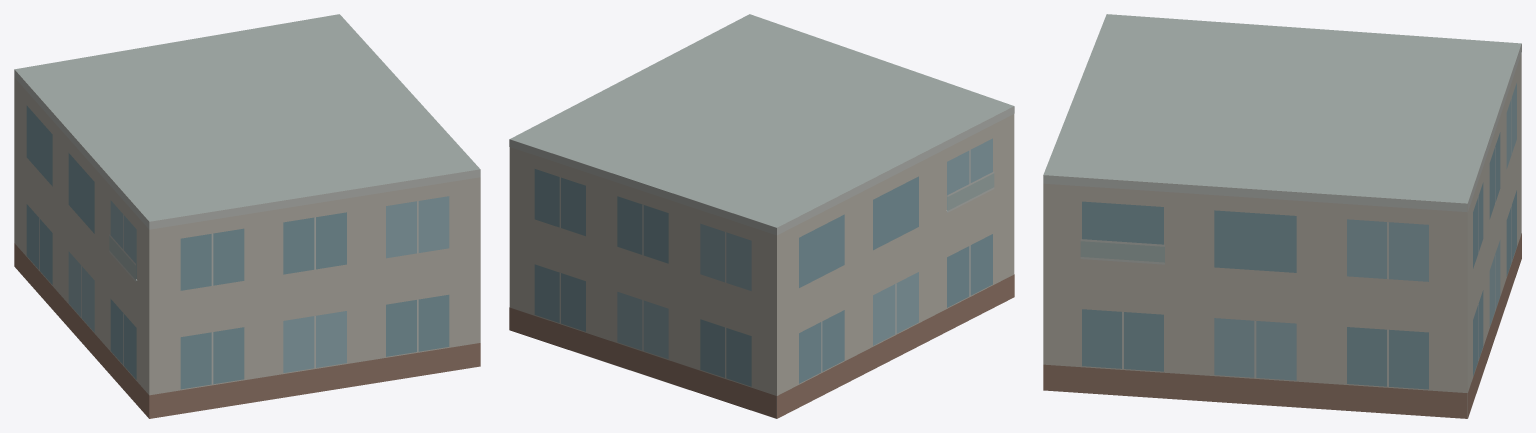
The model's file is survey-upis-32879405.glb.
3 views of the same model, side by side, from view 1: azimuth 30°, elevation 25°; view 2: azimuth 150°, elevation 25°; view 3: azimuth 270°, elevation 25° (orthographic). The views are drawn at different scales.
Parts seen in each view (by area): view 1: survey-upis-32879405.tmp; view 2: survey-upis-32879405.tmp; view 3: survey-upis-32879405.tmp.
Boxes of the visible parts, x1,y1,x2,y2 form: survey-upis-32879405.tmp: (14,14,480,418); survey-upis-32879405.tmp: (509,14,1014,418); survey-upis-32879405.tmp: (1043,14,1521,418).
Size of the model in its own units: 11.53 by 6.1 by 12.3.
